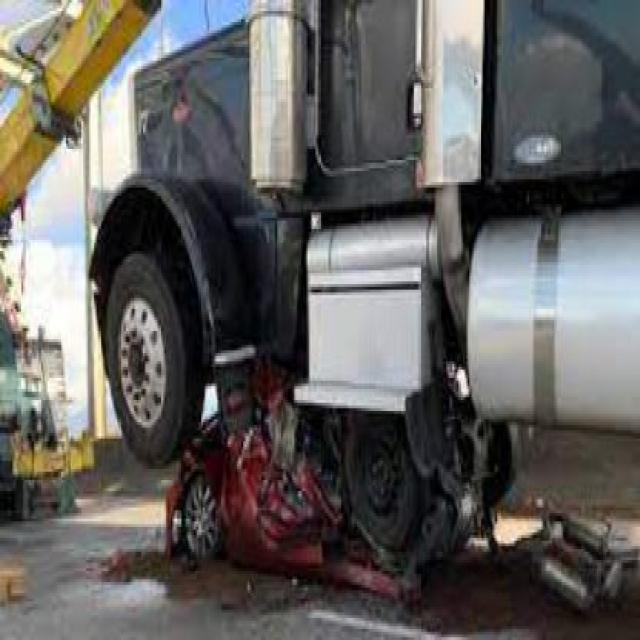accident: (87, 0, 638, 607)
